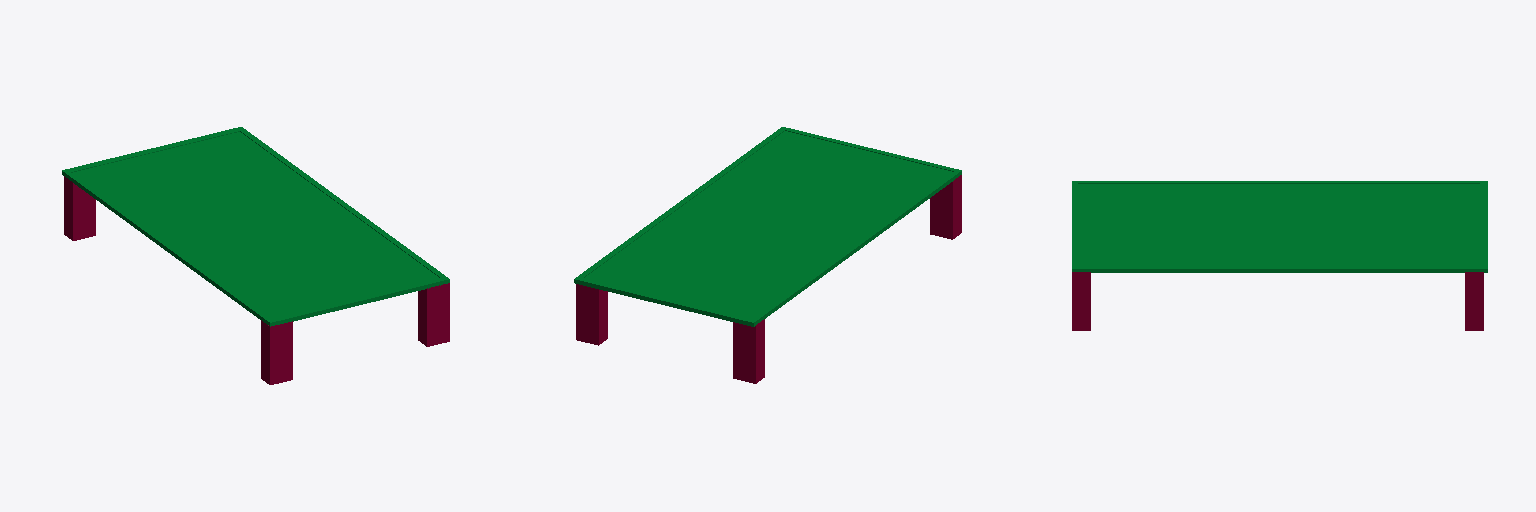
Rendered from Bed.obj.
3 renders of one model, left to right at view 1: azimuth 30°, elevation 25°; view 2: azimuth 150°, elevation 25°; view 3: azimuth 270°, elevation 25°, orthographic.
Parts seen in each view (by area): view 1: Box005, Box001, Box002, Box004; view 2: Box005, Box004, Box003, Box001; view 3: Box005, Box002, Box003.
Part boxes in pixels (x1,y1,x2,y2): Box005: (62, 127, 449, 326); Box001: (261, 320, 292, 384); Box002: (418, 283, 449, 346); Box004: (64, 176, 95, 240); Box005: (574, 127, 961, 326); Box004: (733, 319, 764, 383); Box003: (576, 284, 607, 345); Box001: (930, 175, 961, 239); Box005: (1072, 181, 1487, 272); Box002: (1072, 272, 1090, 330); Box003: (1465, 272, 1483, 330).
Size of the model in its own units: 59.13 by 19.62 by 119.